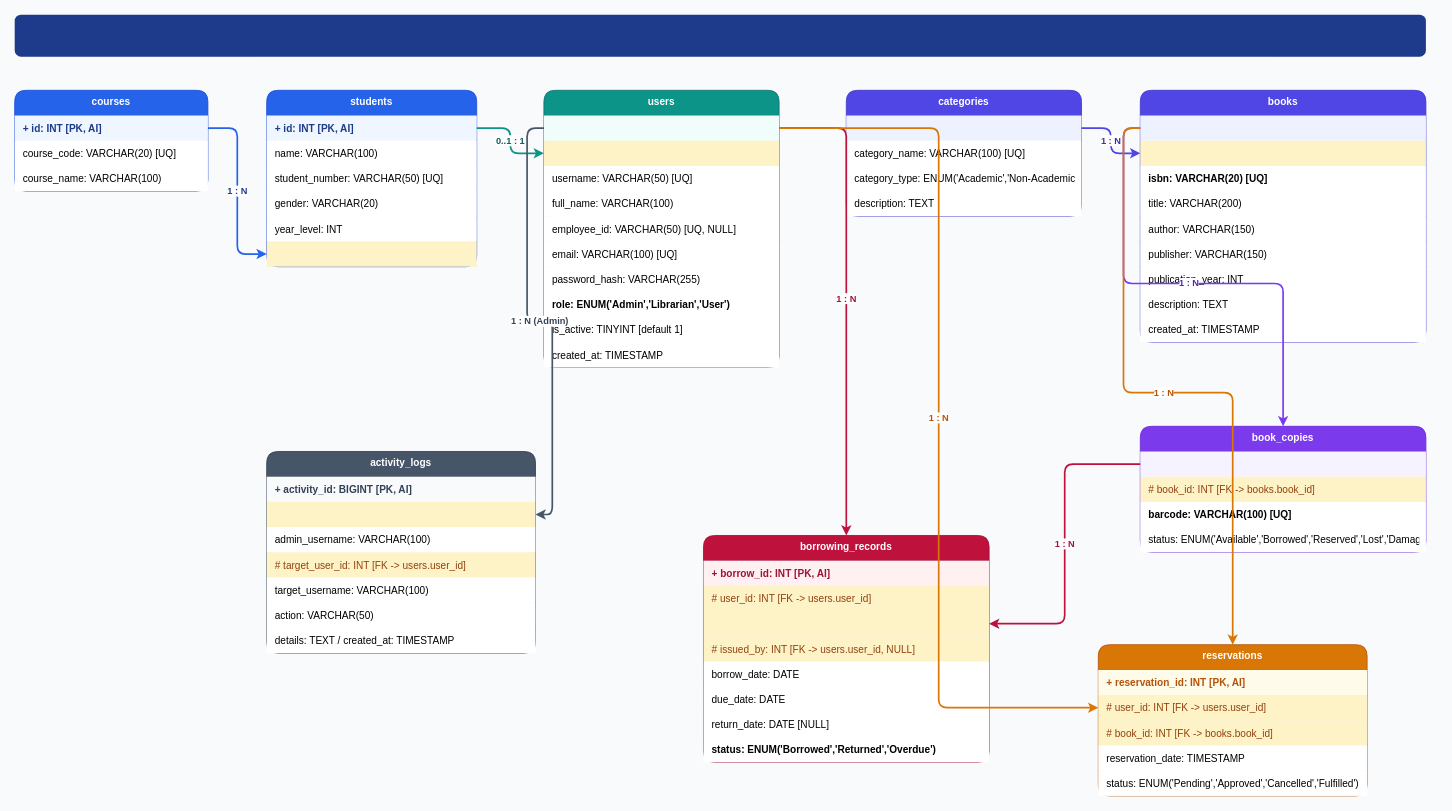
Image size: 1452x811. Some labels were removed from this diagram. Here are the shapes that lost their labels. From the top down, the centre of each, then its label:
(719,35): SCHOOL LIBRARY MANAGEMENT SYSTEM — ENTITY-RELATIONSHIP DIAGRAM (ERD)
(661,127): + user_id: INT [PK, AI]
(963,127): + category_id: INT [PK, AI]
(1282,127): + book_id: INT [PK, AI]
(661,152): # student_id: INT [FK -> students.id, NULL]
(1282,152): # category_id: INT [FK -> categories.category_id, NULL]
(371,253): # course_id: INT [FK -> courses.id]
(1282,463): + copy_id: INT [PK, AI]
(400,514): # admin_user_id: INT [FK -> users.user_id]
(846,623): # copy_id: INT [FK -> book_copies.copy_id]
